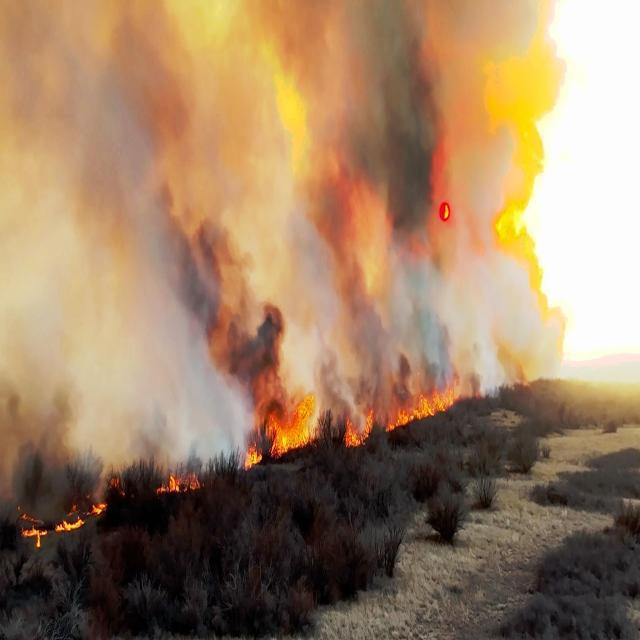Fire: (255, 384, 319, 462), (392, 387, 458, 436)
Smoke: (0, 0, 285, 399), (226, 0, 354, 394), (341, 0, 462, 372)
